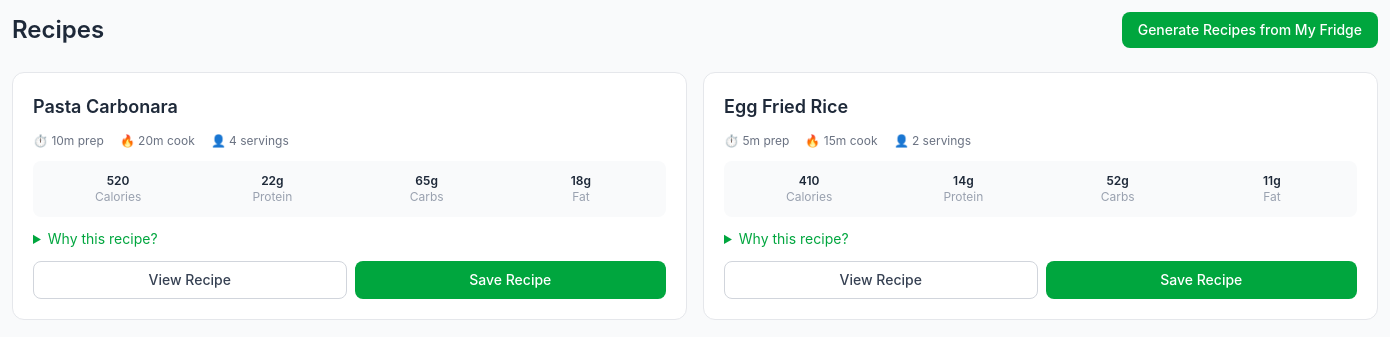
Test case: RecipeList › shows a loading spinner while the generate mutation is pending
Click the button "Generate Recipes from My Fridge": (1250, 30) [1122,12,1378,48]
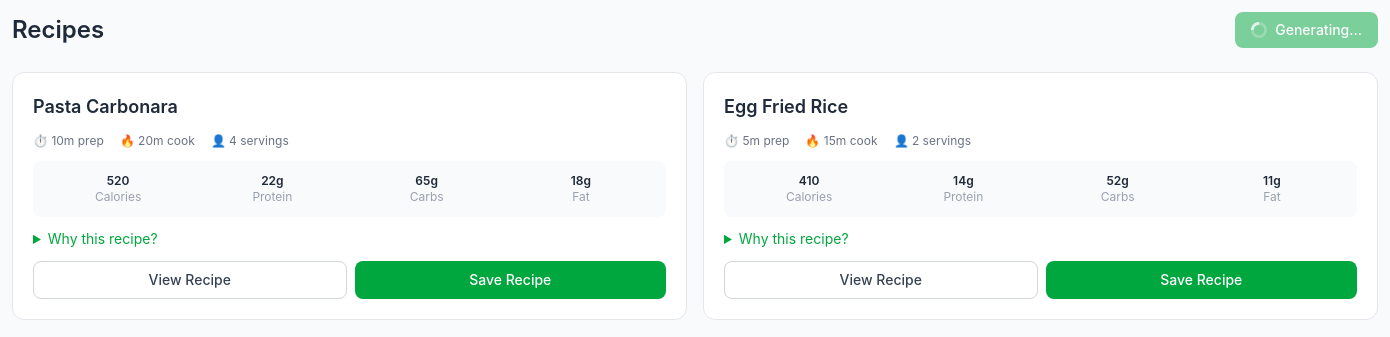
Expected: the icon with class "animate-spin" is shown, [1251,22,1267,38]
Expected: the button named "generate recipes from my fridge" is disabled, [1235,12,1378,48]
